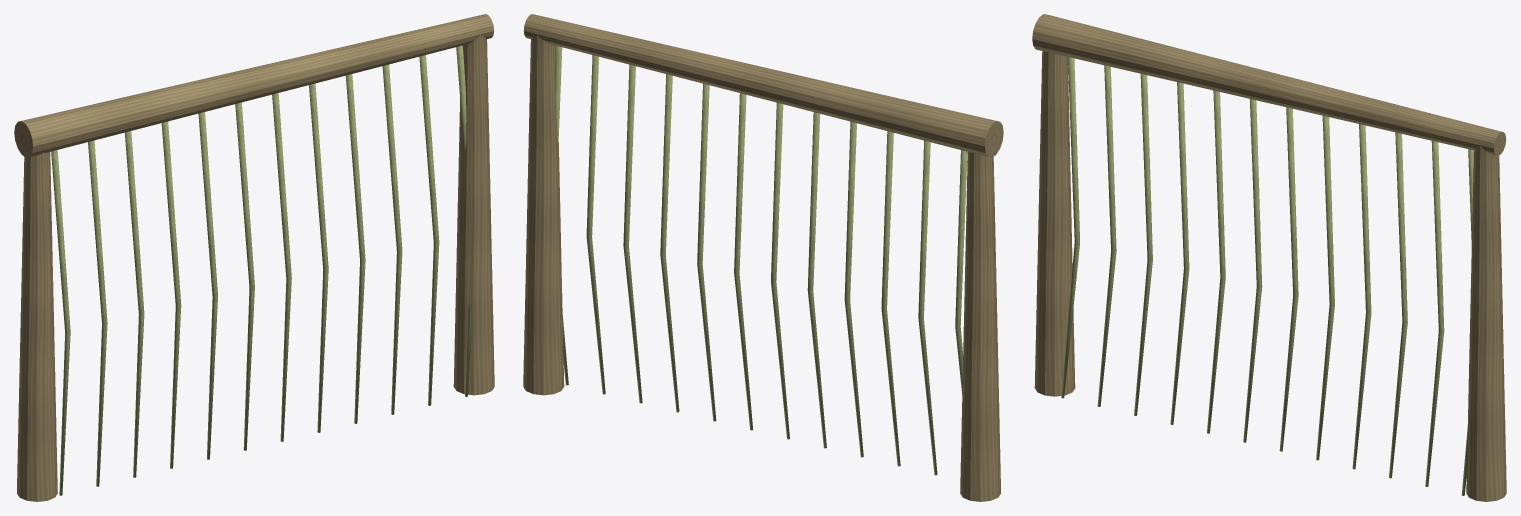
The model's file is vine_curtain_screen_swamp_and_mangrove_22662.glb.
3 views of the same model, side by side, from view 1: azimuth 30°, elevation 25°; view 2: azimuth 150°, elevation 25°; view 3: azimuth 330°, elevation 25° (orthographic).
Parts seen in each view (by area): view 1: vine-curtain; view 2: vine-curtain; view 3: vine-curtain.
Boxes of the visible parts, x1,y1,x2,y2 form: vine-curtain: (14, 14, 494, 501); vine-curtain: (523, 14, 1003, 501); vine-curtain: (1032, 14, 1506, 501).
Bounding box in the file's own units: 3.46 × 2.62 × 0.26.
Materials: 2 (2 with a texture image).
